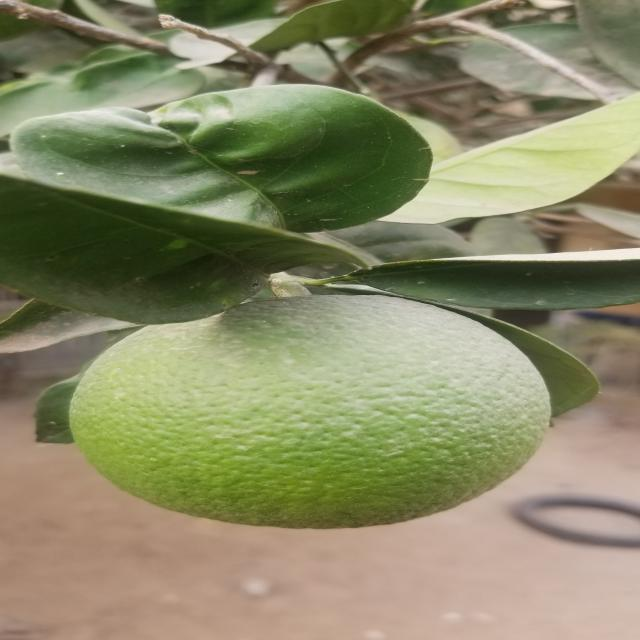Unripe: (72, 292, 548, 524)
